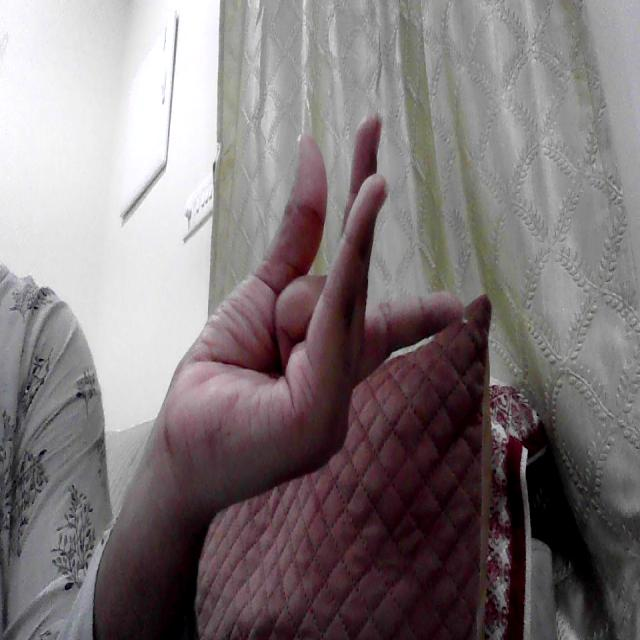Kangula: (173, 103, 489, 494)
